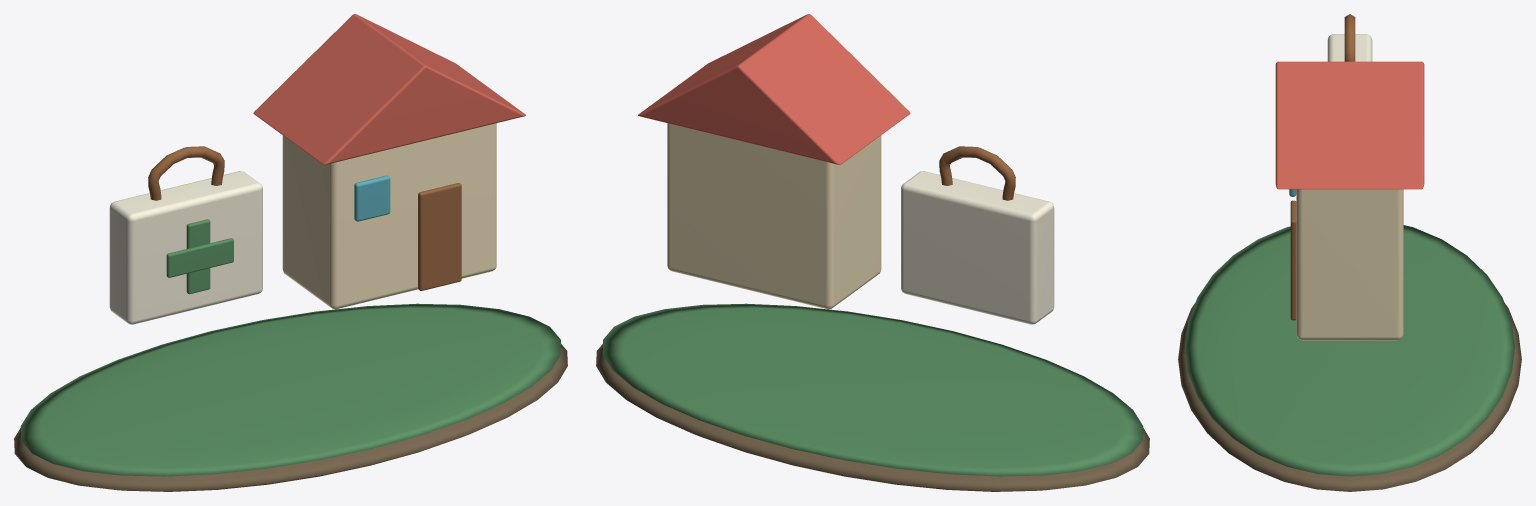
The model's file is healing-courtyard.glb.
3 views of the same model, side by side, from view 1: azimuth 30°, elevation 25°; view 2: azimuth 150°, elevation 25°; view 3: azimuth 270°, elevation 25° (orthographic). The views are drawn at different scales.
Parts seen in each view (by area): view 1: healing-courtyard_surface_01, healing-courtyard_surface_04, healing-courtyard_surface_05, healing-courtyard_surface_02, healing-courtyard_surface_00, healing-courtyard_surface_03, healing-courtyard_surface_06; view 2: healing-courtyard_surface_01, healing-courtyard_surface_04, healing-courtyard_surface_05, healing-courtyard_surface_02, healing-courtyard_surface_00, healing-courtyard_surface_03; view 3: healing-courtyard_surface_01, healing-courtyard_surface_05, healing-courtyard_surface_04, healing-courtyard_surface_00, healing-courtyard_surface_03, healing-courtyard_surface_02.
Part boxes in pixels (left/top/right/bottom): healing-courtyard_surface_01: left=20, top=219, right=561, bottom=476; healing-courtyard_surface_04: left=282, top=123, right=496, bottom=309; healing-courtyard_surface_05: left=253, top=14, right=525, bottom=164; healing-courtyard_surface_02: left=109, top=171, right=262, bottom=324; healing-courtyard_surface_00: left=14, top=344, right=567, bottom=491; healing-courtyard_surface_03: left=148, top=146, right=461, bottom=290; healing-courtyard_surface_06: left=354, top=175, right=390, bottom=221; healing-courtyard_surface_01: left=602, top=303, right=1143, bottom=476; healing-courtyard_surface_04: left=667, top=123, right=881, bottom=309; healing-courtyard_surface_05: left=638, top=14, right=910, bottom=164; healing-courtyard_surface_02: left=901, top=171, right=1054, bottom=324; healing-courtyard_surface_00: left=596, top=344, right=1149, bottom=491; healing-courtyard_surface_03: left=939, top=146, right=1015, bottom=200; healing-courtyard_surface_01: left=1185, top=225, right=1514, bottom=476; healing-courtyard_surface_05: left=1275, top=61, right=1424, bottom=189; healing-courtyard_surface_04: left=1296, top=189, right=1403, bottom=340; healing-courtyard_surface_00: left=1178, top=303, right=1521, bottom=491; healing-courtyard_surface_03: left=1290, top=14, right=1355, bottom=320; healing-courtyard_surface_02: left=1327, top=34, right=1372, bottom=61.
Bounding box in the file's own units: 4.56 × 2.91 × 2.5.
